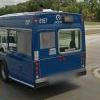Bus: (1, 10, 88, 88)
